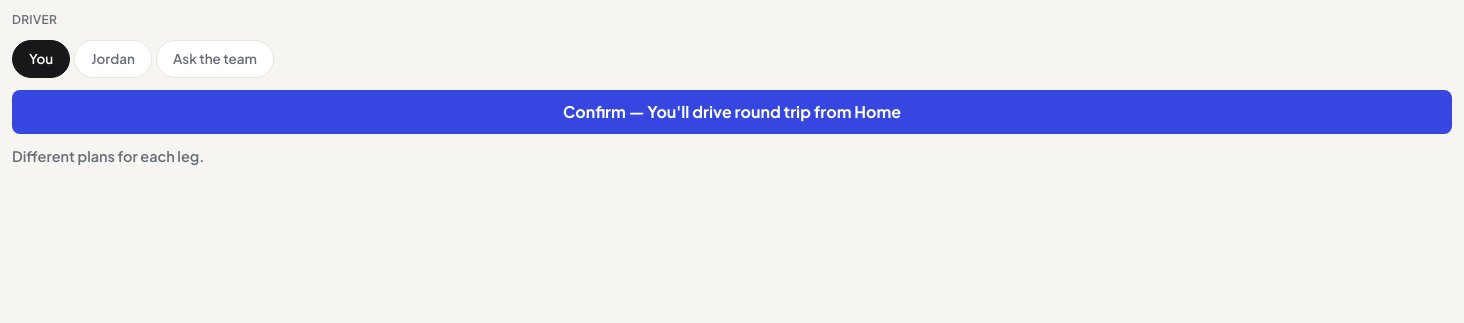
Test: DriverPicker › returns to household Confirm after selecting an adult from Ask the team
Click the button "Ask the team" at (215,59), box x1=156 y1=40 x2=274 y2=78
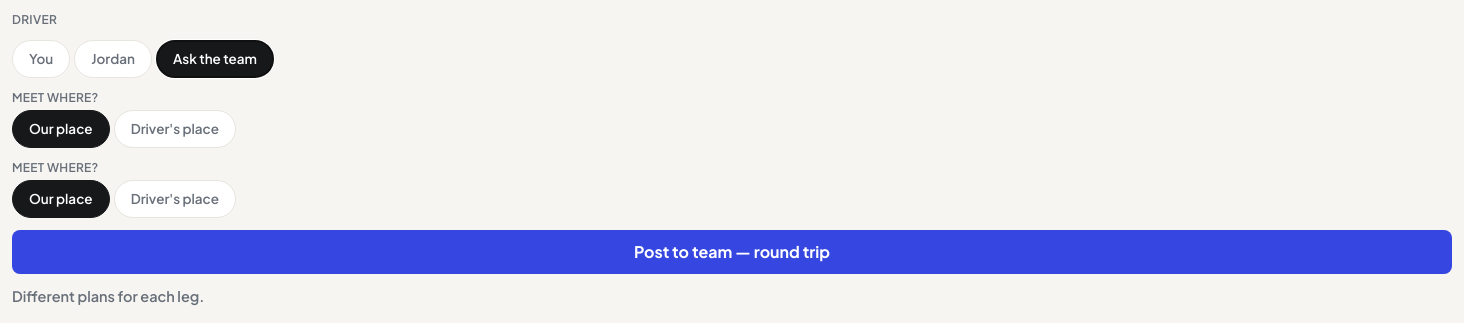
Now the button "Post to team — round trip" is shown, box x1=12 y1=230 x2=1452 y2=274
Click the button "You" at (41,59), box x1=12 y1=40 x2=70 y2=78
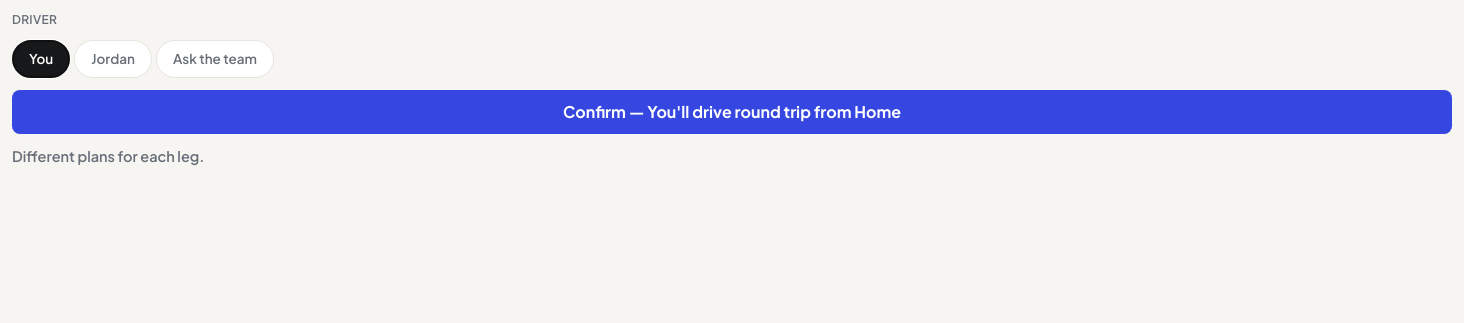
Now the button "Confirm — You'll drive round trip from Home" is shown, box x1=12 y1=90 x2=1452 y2=134
